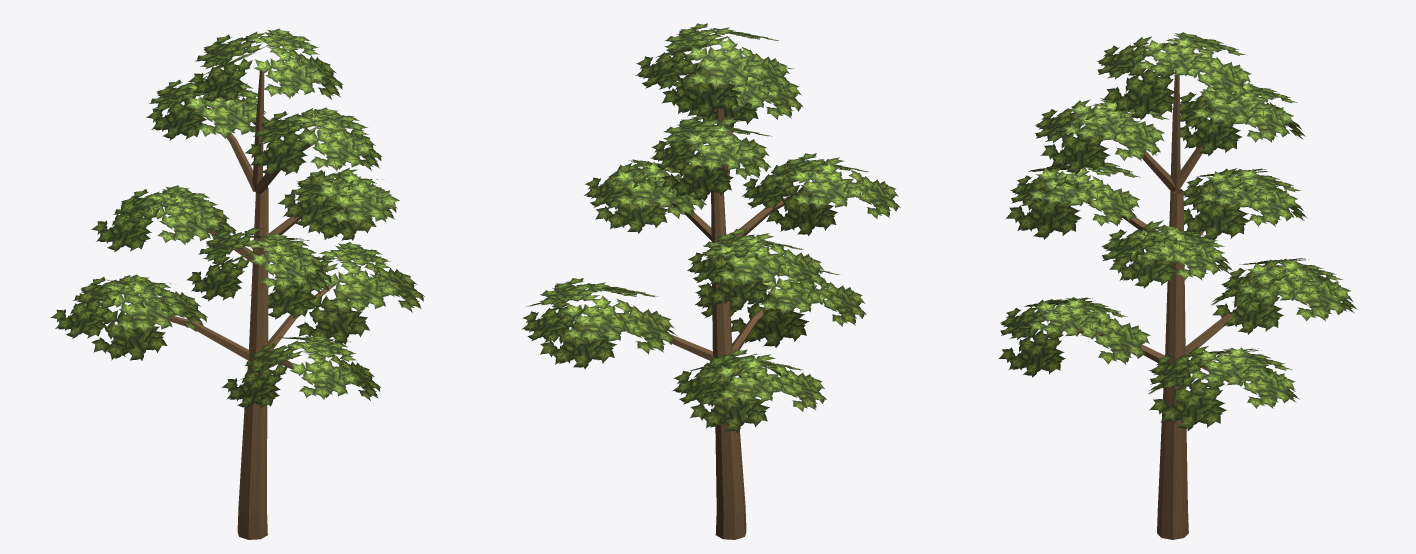
The model's file is maple_b.glb.
3 renders of one model, left to right at view 1: azimuth 30°, elevation 25°; view 2: azimuth 150°, elevation 25°; view 3: azimuth 270°, elevation 25°, orthographic.
Visible parts, largest first — view 1: maple_b; view 2: maple_b; view 3: maple_b.
Part boxes in pixels (left/top/right/bottom): maple_b: left=50, top=28, right=424, bottom=539; maple_b: left=522, top=23, right=900, bottom=539; maple_b: left=998, top=32, right=1357, bottom=539.
Size of the model in its own units: 4.89 by 5.88 by 4.63.
Materials: 2 (2 with a texture image).
